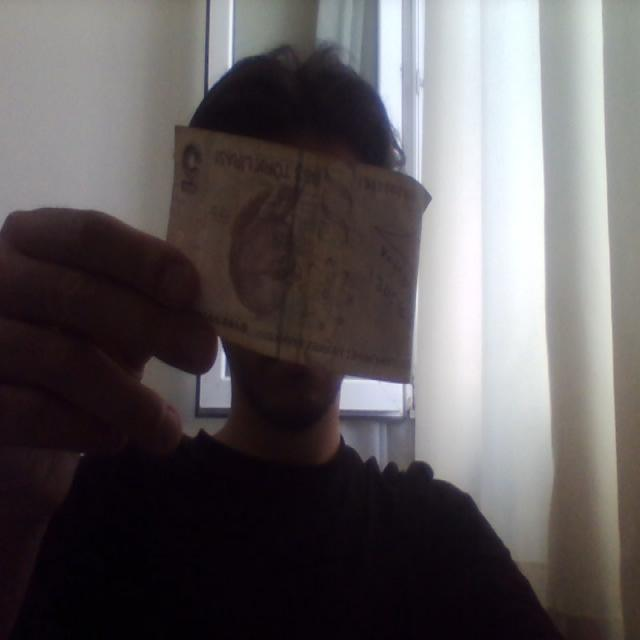5-TL: (167, 123, 432, 389)
